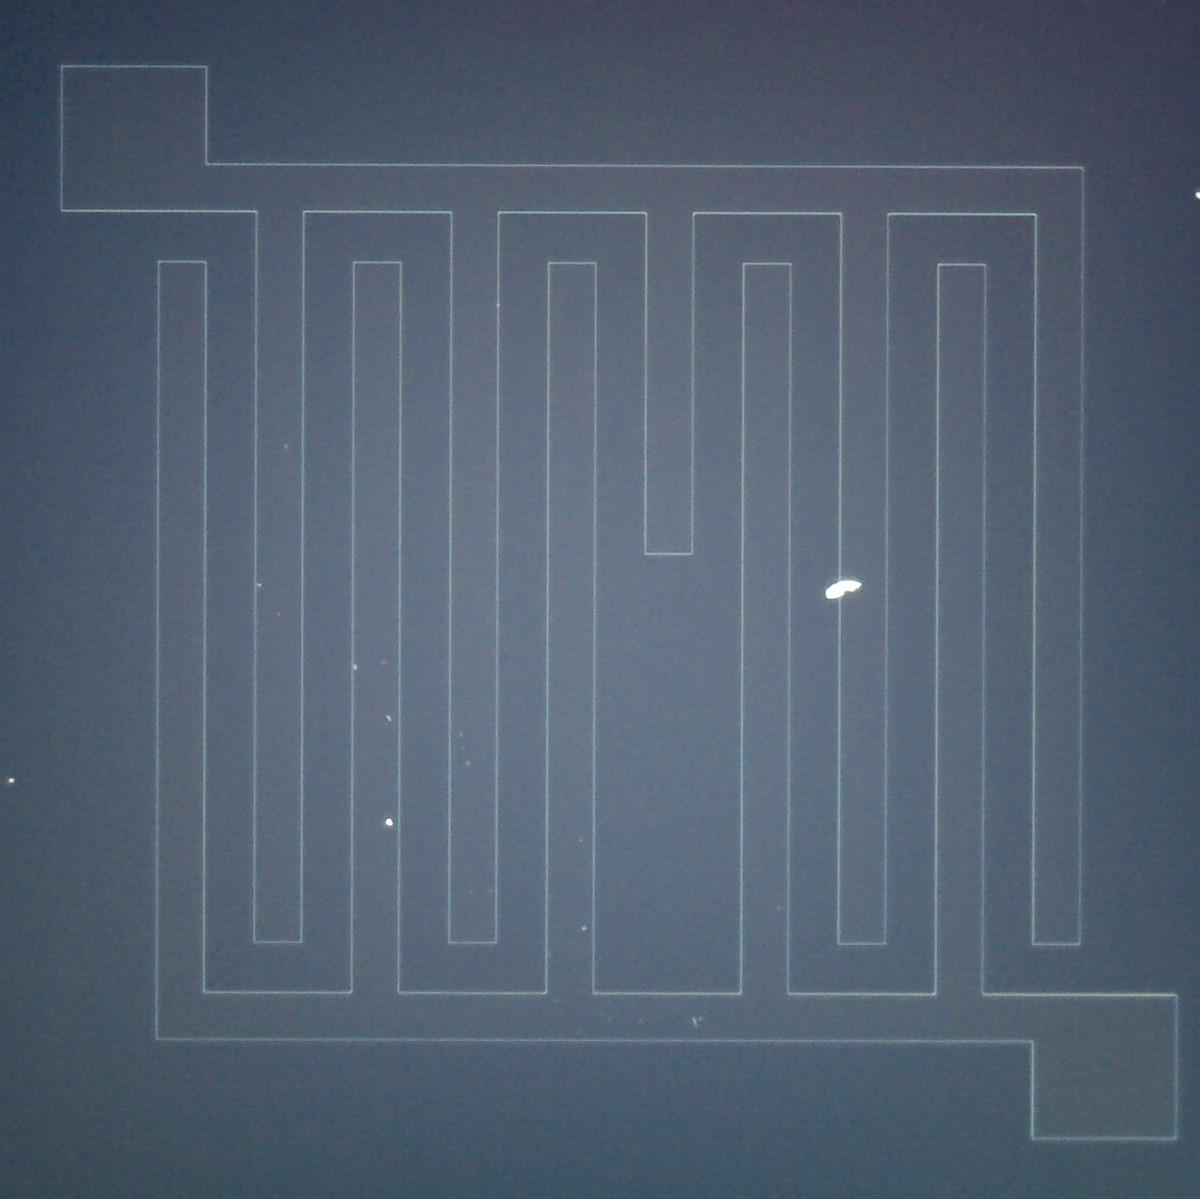B_point: (816, 572, 867, 610), (381, 814, 399, 831), (4, 773, 20, 789), (691, 1016, 706, 1029), (1191, 188, 1200, 203)
s_point: (381, 705, 397, 735), (279, 434, 296, 460), (372, 650, 393, 672), (270, 604, 289, 625), (460, 758, 479, 776), (248, 578, 269, 594), (459, 726, 473, 749), (348, 661, 363, 682), (631, 1016, 649, 1030), (603, 1012, 618, 1028), (773, 903, 785, 915), (579, 925, 588, 933)
short: (581, 147, 765, 1008)
